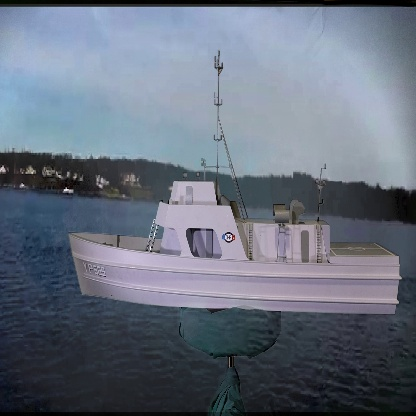YP689: (69, 50, 401, 318)
